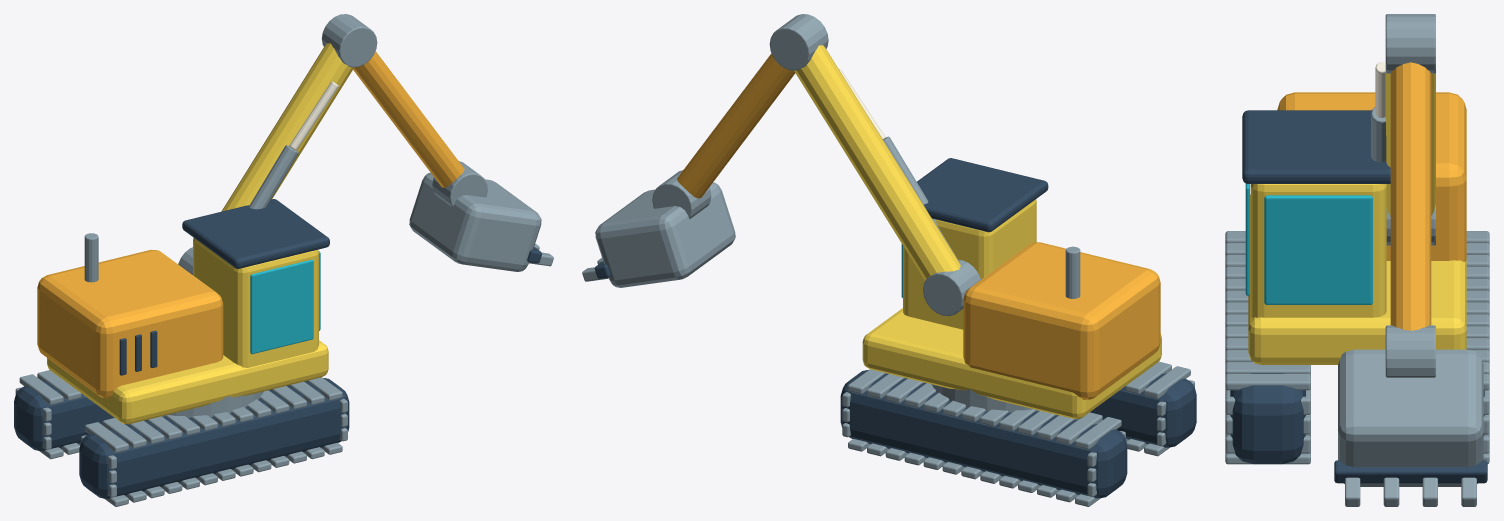
File: SM_Excavator.fbx
3 renders of one model, left to right at view 1: azimuth 30°, elevation 25°; view 2: azimuth 150°, elevation 25°; view 3: azimuth 270°, elevation 25°, orthographic. The views are drawn at different scales.
Visible parts, largest first — view 1: Rounded engine cowling, Track frame, Rotating upper base, Bucket shell, Cab roof.002, Cab frame, Cab side glass, Main boom, Dipper stick, Track frame.001, Arm pivot pin.001, Arm pivot pin.002 (+7 smaller); view 2: Rounded engine cowling, Track frame.001, Rotating upper base, Main boom, Bucket shell, Cab roof.002, Cab frame, Dipper stick, Track frame, Arm pivot pin.001, Arm pivot pin, Arm pivot pin.002 (+4 smaller); view 3: Bucket shell, Cab front glass, Dipper stick, Cab roof.002, Rotating upper base, Rounded engine cowling, Cab frame, Track frame, Arm pivot pin.001, Arm pivot pin.002, Bucket cutting edge, Main boom (+20 smaller).
Part boxes in pixels (x1=…): Rounded engine cowling: x1=37, y1=250, x2=223, y2=398; Track frame: x1=79, y1=378, x2=349, y2=498; Rotating upper base: x1=47, y1=340, x2=328, y2=424; Bucket shell: x1=409, y1=172, x2=541, y2=271; Cab roof.002: x1=182, y1=199, x2=329, y2=268; Cab frame: x1=193, y1=238, x2=318, y2=367; Cab side glass: x1=250, y1=259, x2=313, y2=354; Main boom: x1=221, y1=43, x2=354, y2=211; Dipper stick: x1=353, y1=51, x2=464, y2=187; Track frame.001: x1=14, y1=381, x2=114, y2=450; Arm pivot pin.001: x1=321, y1=14, x2=377, y2=67; Arm pivot pin.002: x1=432, y1=161, x2=487, y2=206; Rounded engine cowling: x1=963, y1=242, x2=1160, y2=399; Track frame.001: x1=840, y1=370, x2=1127, y2=498; Rotating upper base: x1=862, y1=308, x2=1161, y2=419; Main boom: x1=794, y1=45, x2=960, y2=280; Bucket shell: x1=595, y1=182, x2=735, y2=287; Cab roof.002: x1=917, y1=158, x2=1048, y2=232; Cab frame: x1=903, y1=199, x2=1036, y2=329; Dipper stick: x1=677, y1=53, x2=795, y2=198; Track frame: x1=1090, y1=373, x2=1196, y2=447; Arm pivot pin.001: x1=769, y1=14, x2=828, y2=70; Arm pivot pin: x1=923, y1=259, x2=980, y2=316; Arm pivot pin.002: x1=652, y1=170, x2=711, y2=218; Bucket shell: x1=1338, y1=349, x2=1483, y2=486; Cab front glass: x1=1264, y1=195, x2=1372, y2=304; Dipper stick: x1=1390, y1=62, x2=1431, y2=330; Cab roof.002: x1=1242, y1=110, x2=1390, y2=183; Rotating upper base: x1=1248, y1=194, x2=1466, y2=364; Rounded engine cowling: x1=1277, y1=92, x2=1466, y2=261; Cab frame: x1=1250, y1=184, x2=1386, y2=317; Track frame: x1=1230, y1=361, x2=1305, y2=464; Arm pivot pin.001: x1=1385, y1=14, x2=1435, y2=73; Arm pivot pin.002: x1=1385, y1=325, x2=1435, y2=377; Bucket cutting edge: x1=1334, y1=460, x2=1487, y2=483; Main boom: x1=1385, y1=73, x2=1435, y2=215.
Size of the model in its own units: 8.07 by 5.66 by 2.72.
